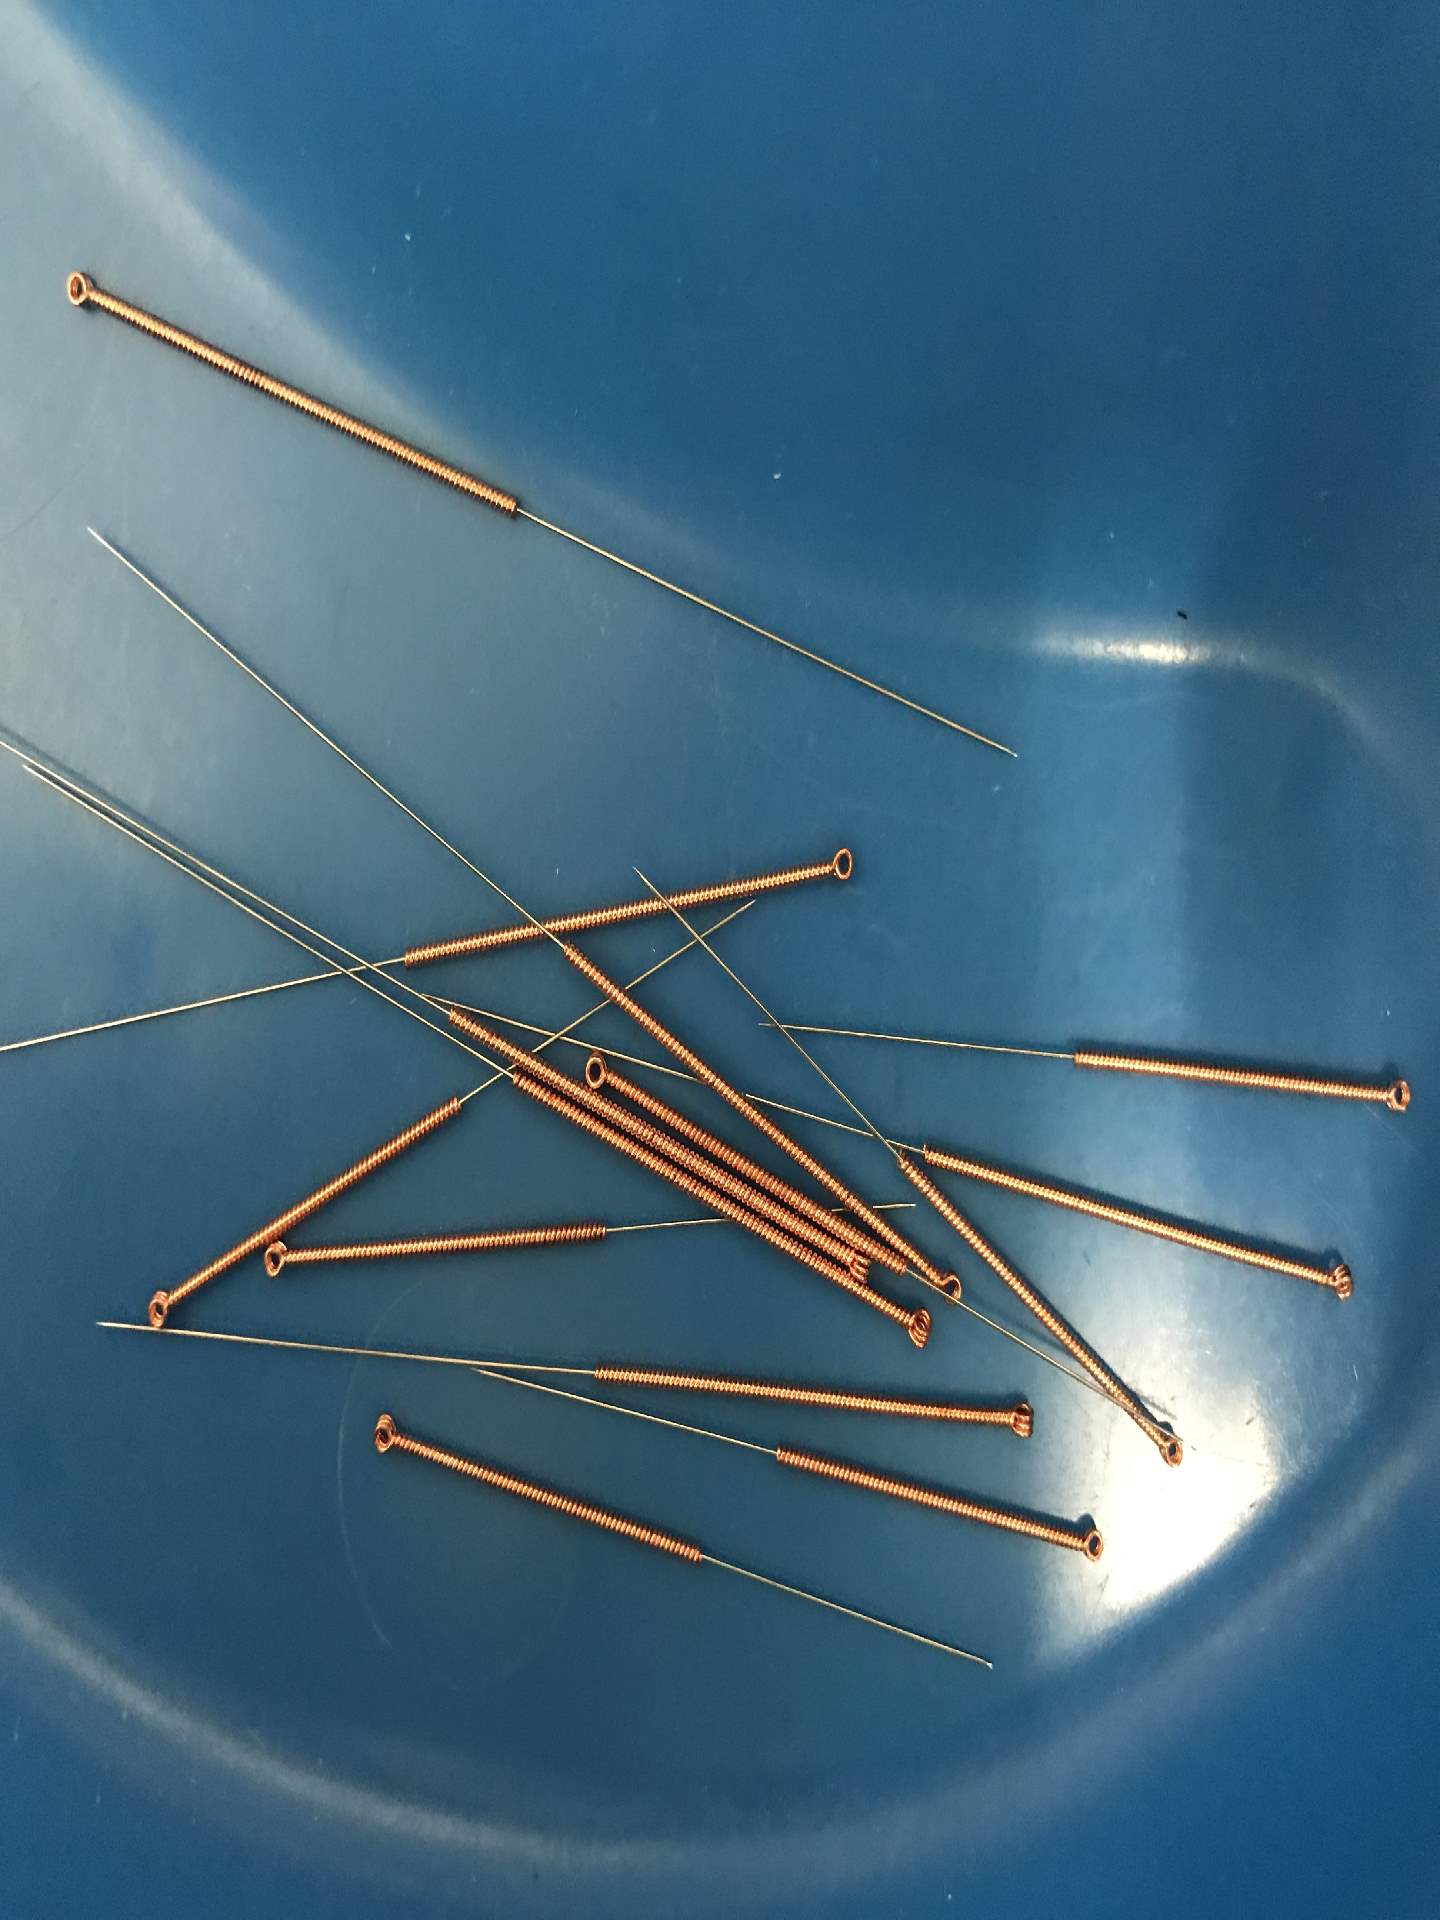needle: (48, 249, 109, 324), (811, 831, 867, 903), (1370, 1066, 1419, 1126), (363, 1403, 408, 1465), (892, 1299, 939, 1358), (1316, 1250, 1360, 1311), (995, 1394, 1045, 1445), (1068, 1516, 1113, 1572), (1144, 1424, 1192, 1476), (141, 1284, 183, 1335), (579, 1043, 622, 1095), (926, 1261, 968, 1312), (256, 1234, 296, 1287), (843, 1247, 874, 1288)
